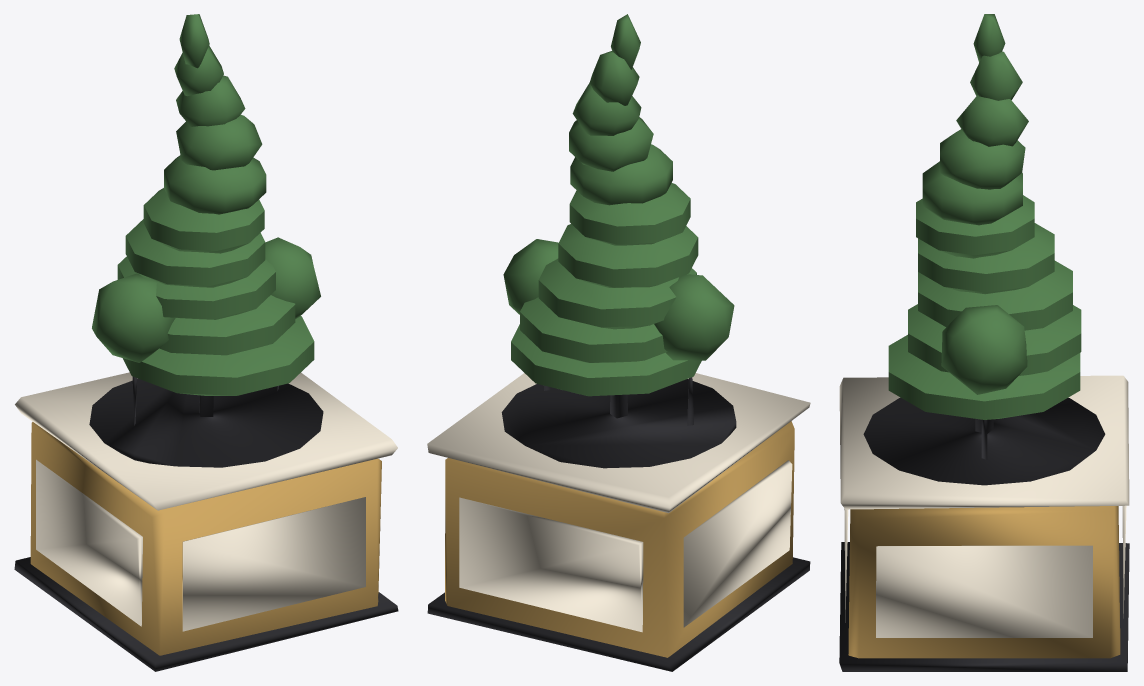
Rendered from topiary_planter.glb.
The picture shows the model from 3 angles, left to right: view 1: azimuth 30°, elevation 25°; view 2: azimuth 150°, elevation 25°; view 3: azimuth 270°, elevation 25°; orthographic projection. The views are drawn at different scales.
Visible parts, largest first — view 1: topiary_planter; view 2: topiary_planter; view 3: topiary_planter.
Boxes of the visible parts, x1,y1,x2,y2 form: topiary_planter: (14, 14, 398, 671); topiary_planter: (427, 14, 810, 671); topiary_planter: (839, 14, 1129, 671).
Bounding box in the file's own units: 0.9599 × 2.18 × 0.9599.
